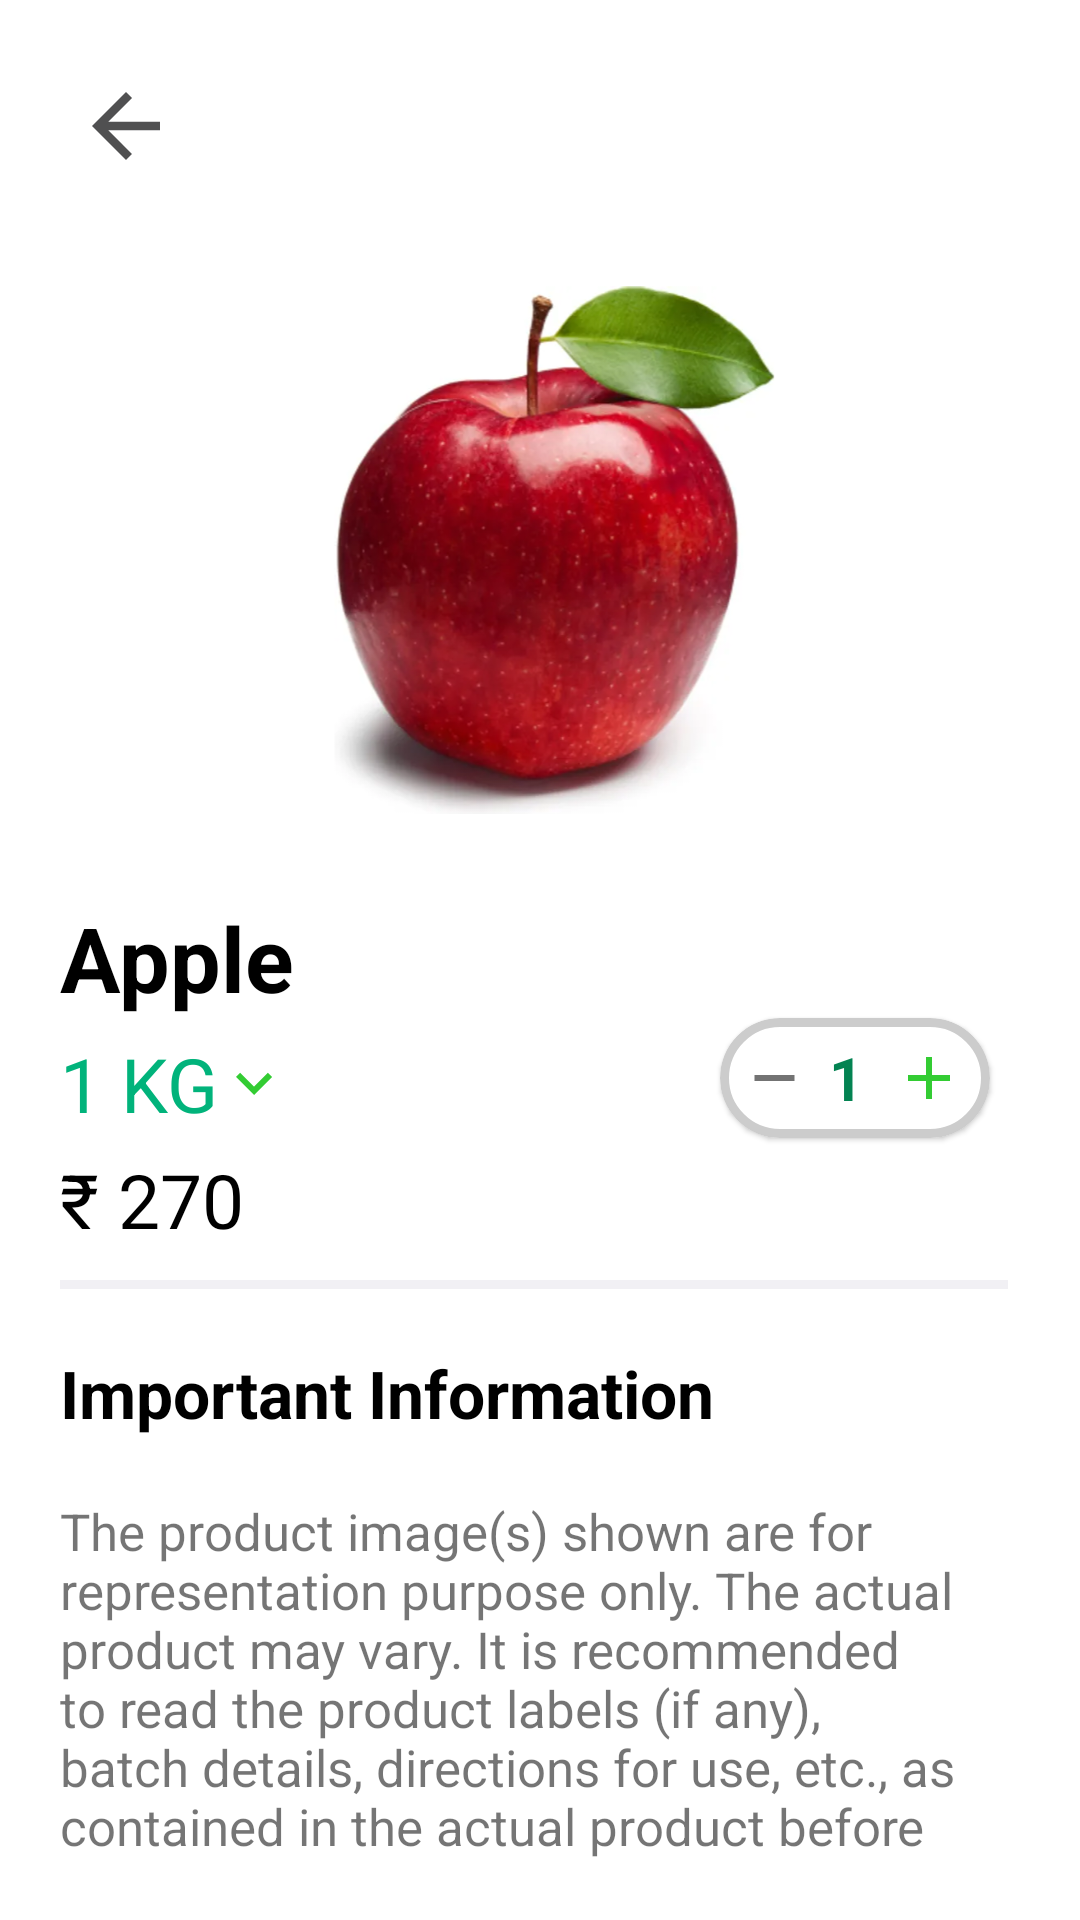

Where to tap for icons on this 1080x1920 app screen, as (x=x, y=y):
add: (x=929, y=1078)
back arrow: (x=126, y=126)
